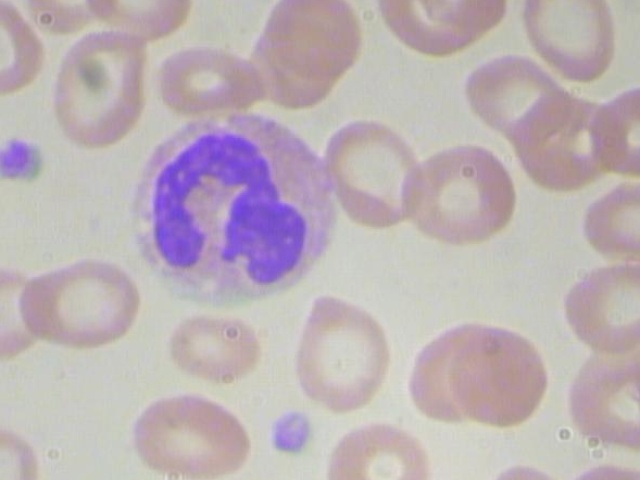Platelets: (0, 129, 55, 198), (265, 402, 316, 458)
RBC: (315, 113, 432, 238), (42, 27, 156, 153), (19, 245, 149, 351), (399, 137, 522, 248), (445, 48, 574, 150), (291, 293, 396, 416), (449, 311, 556, 429), (128, 384, 259, 479), (151, 41, 273, 119), (261, 0, 369, 86), (516, 0, 620, 86), (557, 254, 640, 359), (163, 308, 269, 390), (564, 338, 640, 451), (572, 170, 640, 278), (321, 418, 437, 480), (586, 79, 640, 181)
WBC: (126, 107, 343, 309)
